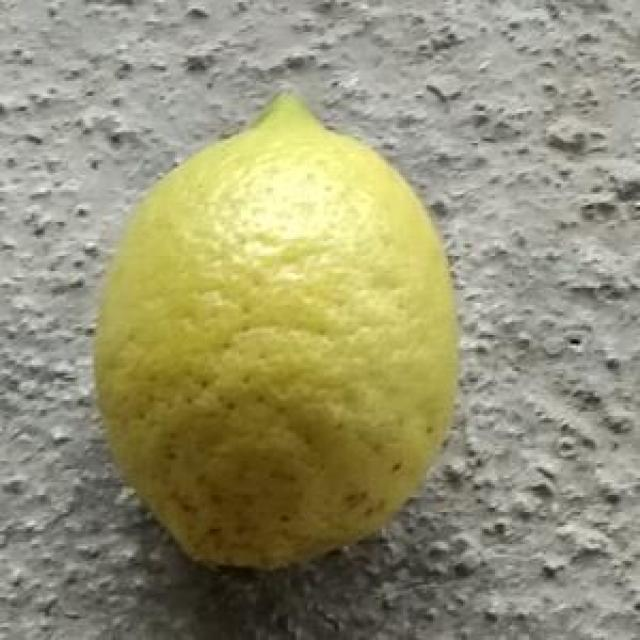lemon: (94, 86, 462, 580)
